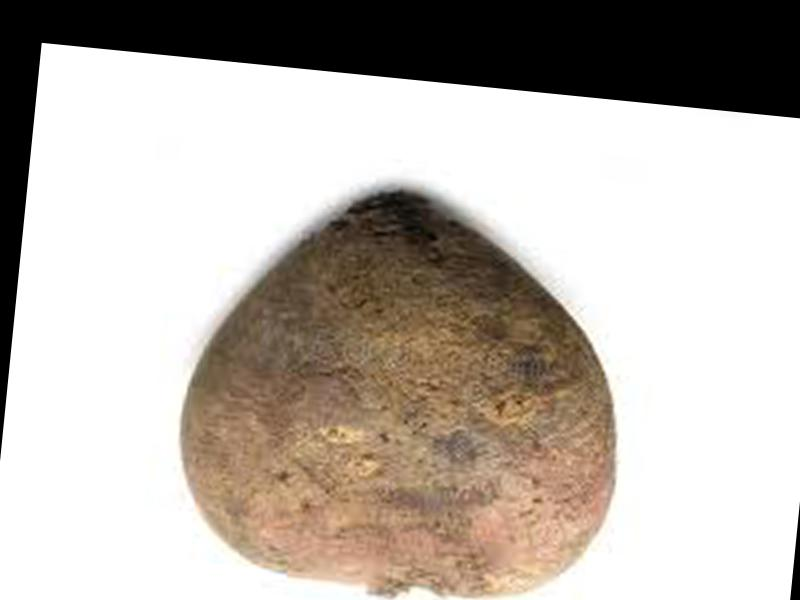Beet: (163, 173, 642, 600)
